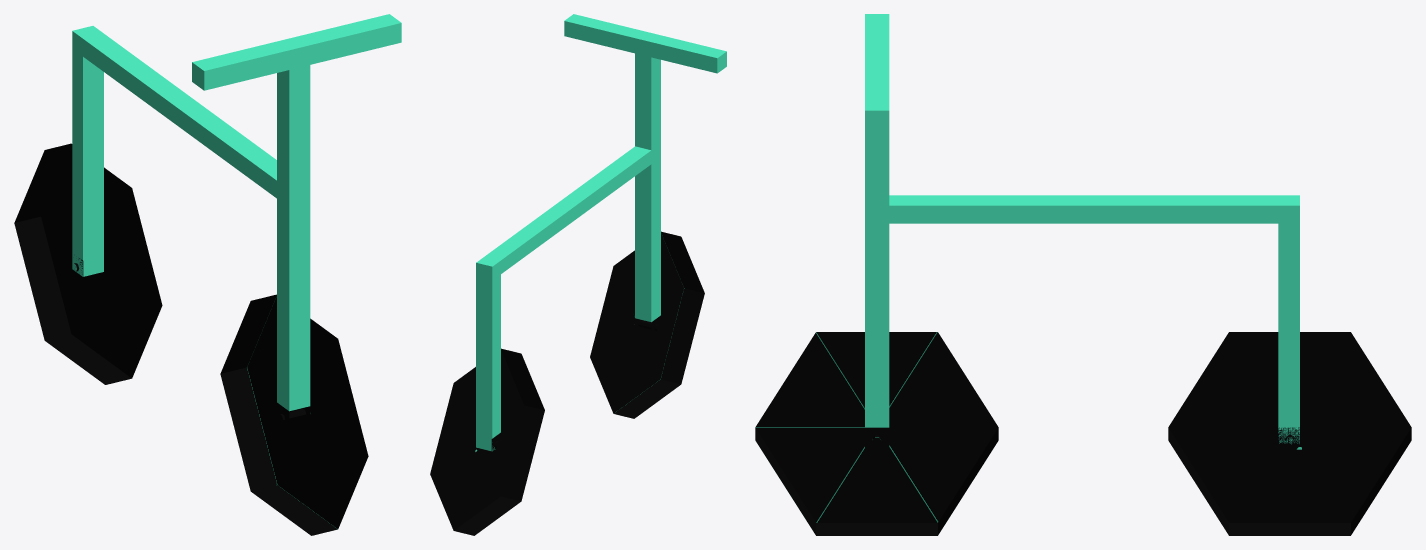
Rendered from velo.glb.
3 renders of one model, left to right at view 1: azimuth 30°, elevation 25°; view 2: azimuth 150°, elevation 25°; view 3: azimuth 270°, elevation 25°, orthographic. The views are drawn at different scales.
Visible parts, largest first — view 1: Cercle; view 2: Cercle; view 3: Cercle.
Part boxes in pixels (x1,y1,x2,y2): Cercle: (14,14,401,535); Cercle: (430,14,726,535); Cercle: (755,14,1411,535).
Size of the model in its own units: 0.9389 by 2.12 by 2.7.
1 material, 1 textured.
